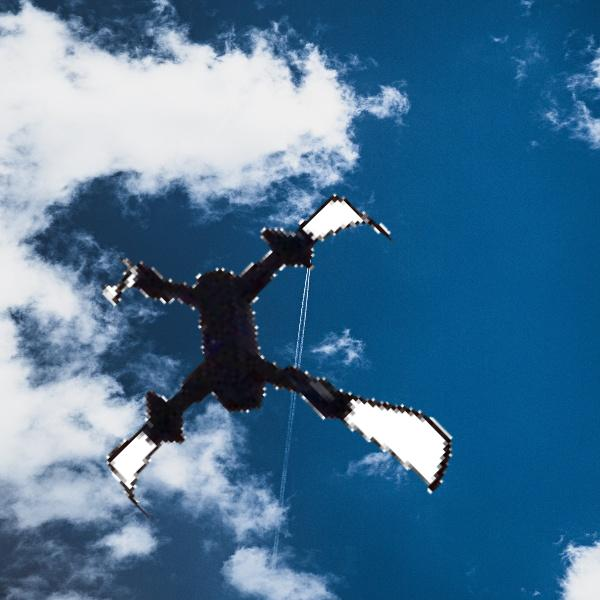drone: (69, 172, 482, 585)
